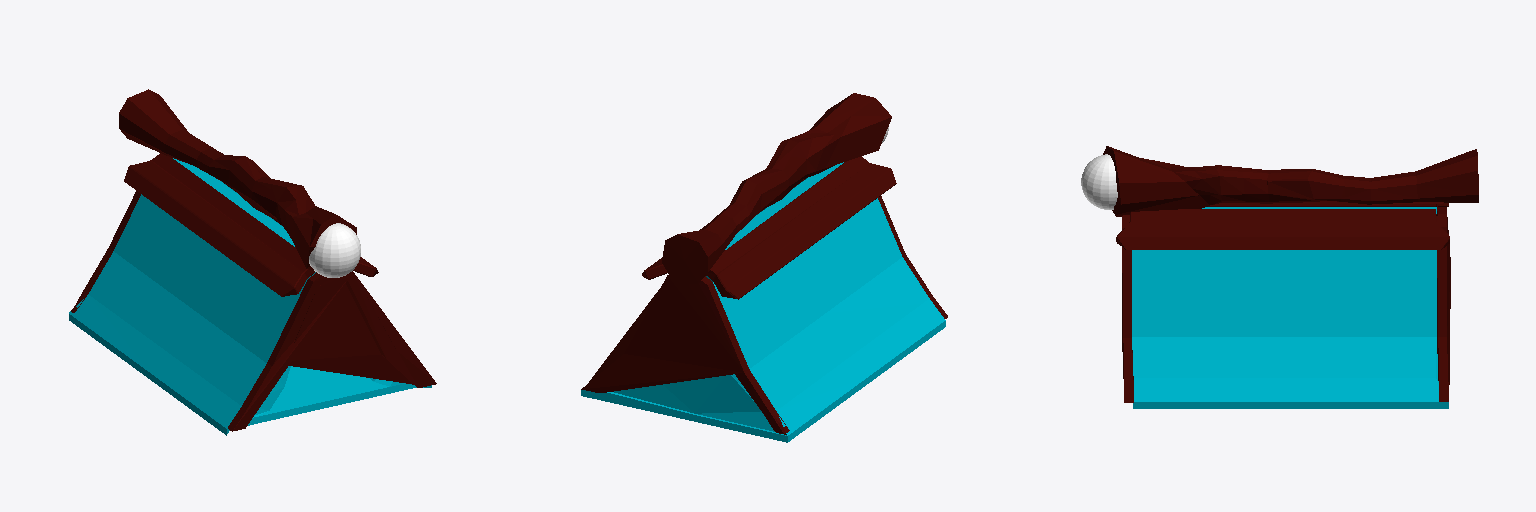
The model's file is Tenteok.obj.
3 views of the same model, side by side, from view 1: azimuth 30°, elevation 25°; view 2: azimuth 150°, elevation 25°; view 3: azimuth 270°, elevation 25° (orthographic).
Parts seen in each view (by area): view 1: group HUGO_ALED:pCube1 HUGO_ALED:polySurface1 HUGO_ALED:polySurf, group HUGO_ALED:pCube1 HUGO_ALED:polySurface3 HUGO_ALED:polySurf, HUGO_ALED:pCylinder1 group, group HUGO_ALED:pSphere1; view 2: group HUGO_ALED:pCube1 HUGO_ALED:polySurface1 HUGO_ALED:polySurf, HUGO_ALED:pCylinder1 group, group HUGO_ALED:pCube1 HUGO_ALED:polySurface3 HUGO_ALED:polySurf; view 3: group HUGO_ALED:pCube1 HUGO_ALED:polySurface1 HUGO_ALED:polySurf, HUGO_ALED:pCylinder1 group, group HUGO_ALED:polySurface2 HUGO_ALED:pCube1, group HUGO_ALED:pSphere1, group HUGO_ALED:pCube1 HUGO_ALED:polySurface3 HUGO_ALED:polySurf.
Part boxes in pixels (left/top/right/bottom): group HUGO_ALED:pCube1 HUGO_ALED:polySurface1 HUGO_ALED:polySurf: left=69, top=158, right=436, bottom=435; group HUGO_ALED:pCube1 HUGO_ALED:polySurface3 HUGO_ALED:polySurf: left=124, top=153, right=314, bottom=296; HUGO_ALED:pCylinder1 group: left=119, top=89, right=356, bottom=270; group HUGO_ALED:pSphere1: left=309, top=223, right=360, bottom=277; group HUGO_ALED:pCube1 HUGO_ALED:polySurface1 HUGO_ALED:polySurf: left=581, top=162, right=947, bottom=442; HUGO_ALED:pCylinder1 group: left=662, top=93, right=891, bottom=284; group HUGO_ALED:pCube1 HUGO_ALED:polySurface3 HUGO_ALED:polySurf: left=706, top=156, right=896, bottom=299; group HUGO_ALED:pCube1 HUGO_ALED:polySurface1 HUGO_ALED:polySurf: left=1122, top=207, right=1450, bottom=408; HUGO_ALED:pCylinder1 group: left=1103, top=146, right=1478, bottom=216; group HUGO_ALED:polySurface2 HUGO_ALED:pCube1: left=1116, top=209, right=1449, bottom=249; group HUGO_ALED:pSphere1: left=1081, top=154, right=1117, bottom=209; group HUGO_ALED:pCube1 HUGO_ALED:polySurface3 HUGO_ALED:polySurf: left=1208, top=201, right=1448, bottom=206.
Size of the model in its own units: 4.68 by 4.46 by 7.78.